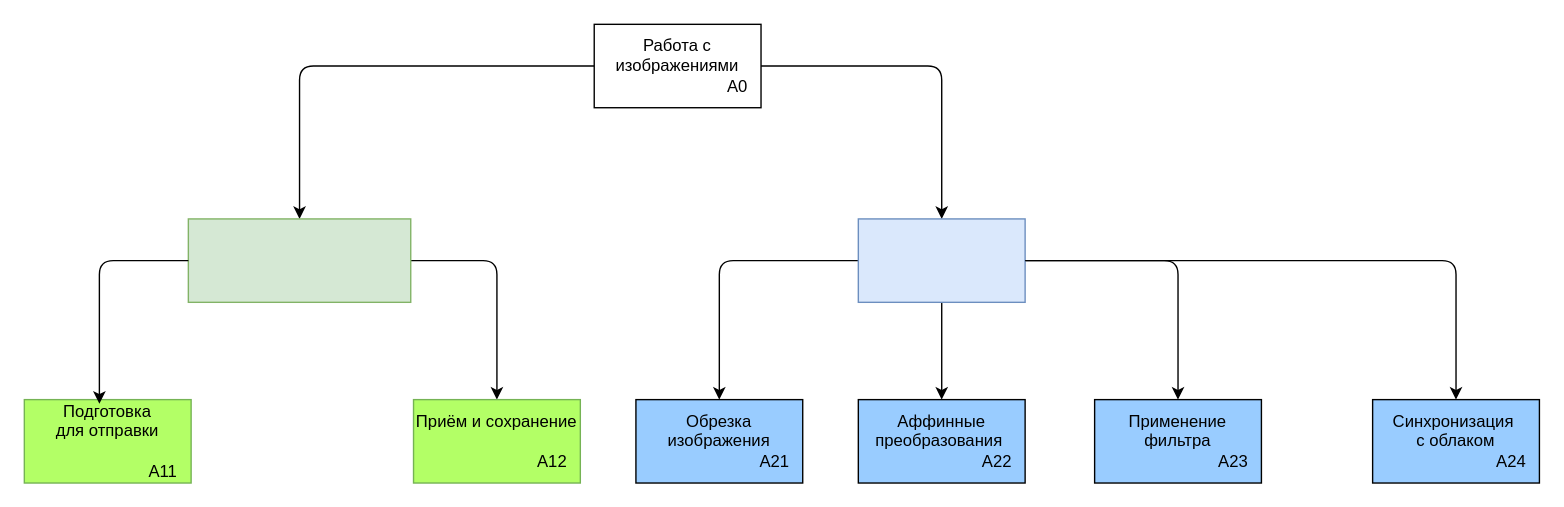
Image size: 1564x507. Some labels were removed from this diagram. The centre of each missing label's shape, as x and y in pixels:
"Загрузка в облако А1" goes at point 299,260.
"Обработка изображения А2" goes at point 941,260.
